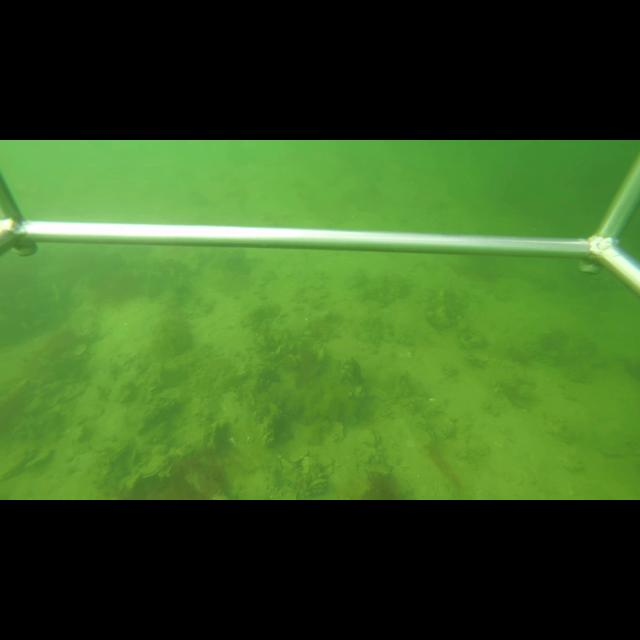Oyster-Closed: (134, 453, 172, 481)
